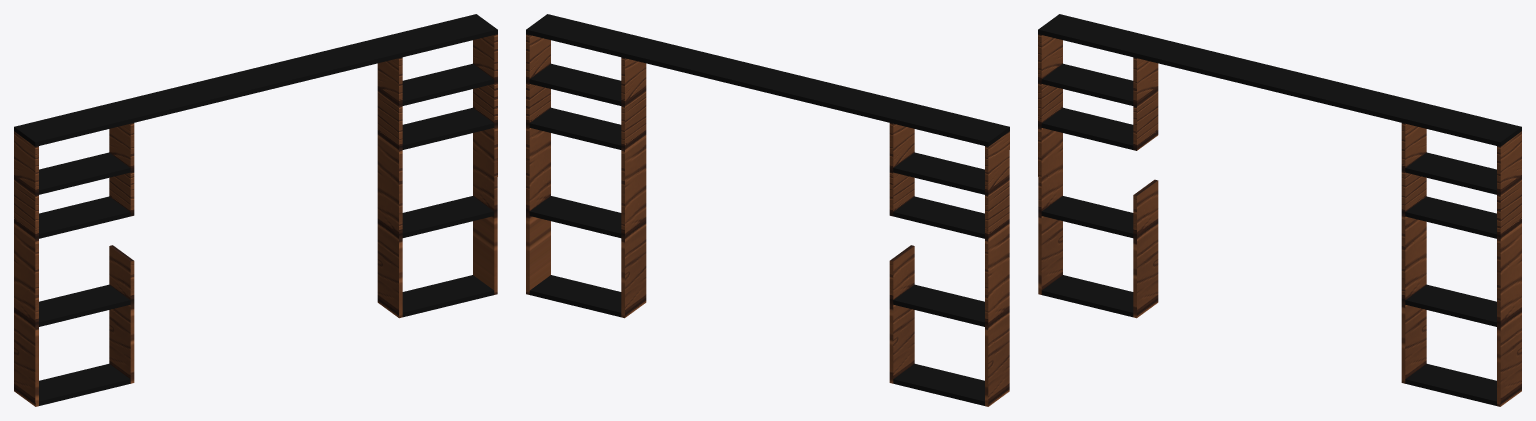
Rendered from EstanteA.fbx.
3 views of the same model, side by side, from view 1: azimuth 30°, elevation 25°; view 2: azimuth 150°, elevation 25°; view 3: azimuth 330°, elevation 25° (orthographic).
Visible parts, largest first — view 1: Estante; view 2: Estante; view 3: Estante.
Part boxes in pixels (<box>): Estante: <box>14,14,497,406</box>; Estante: <box>526,14,1009,406</box>; Estante: <box>1038,14,1521,406</box>.
Size of the model in its own units: 430 by 235 by 34.4.
